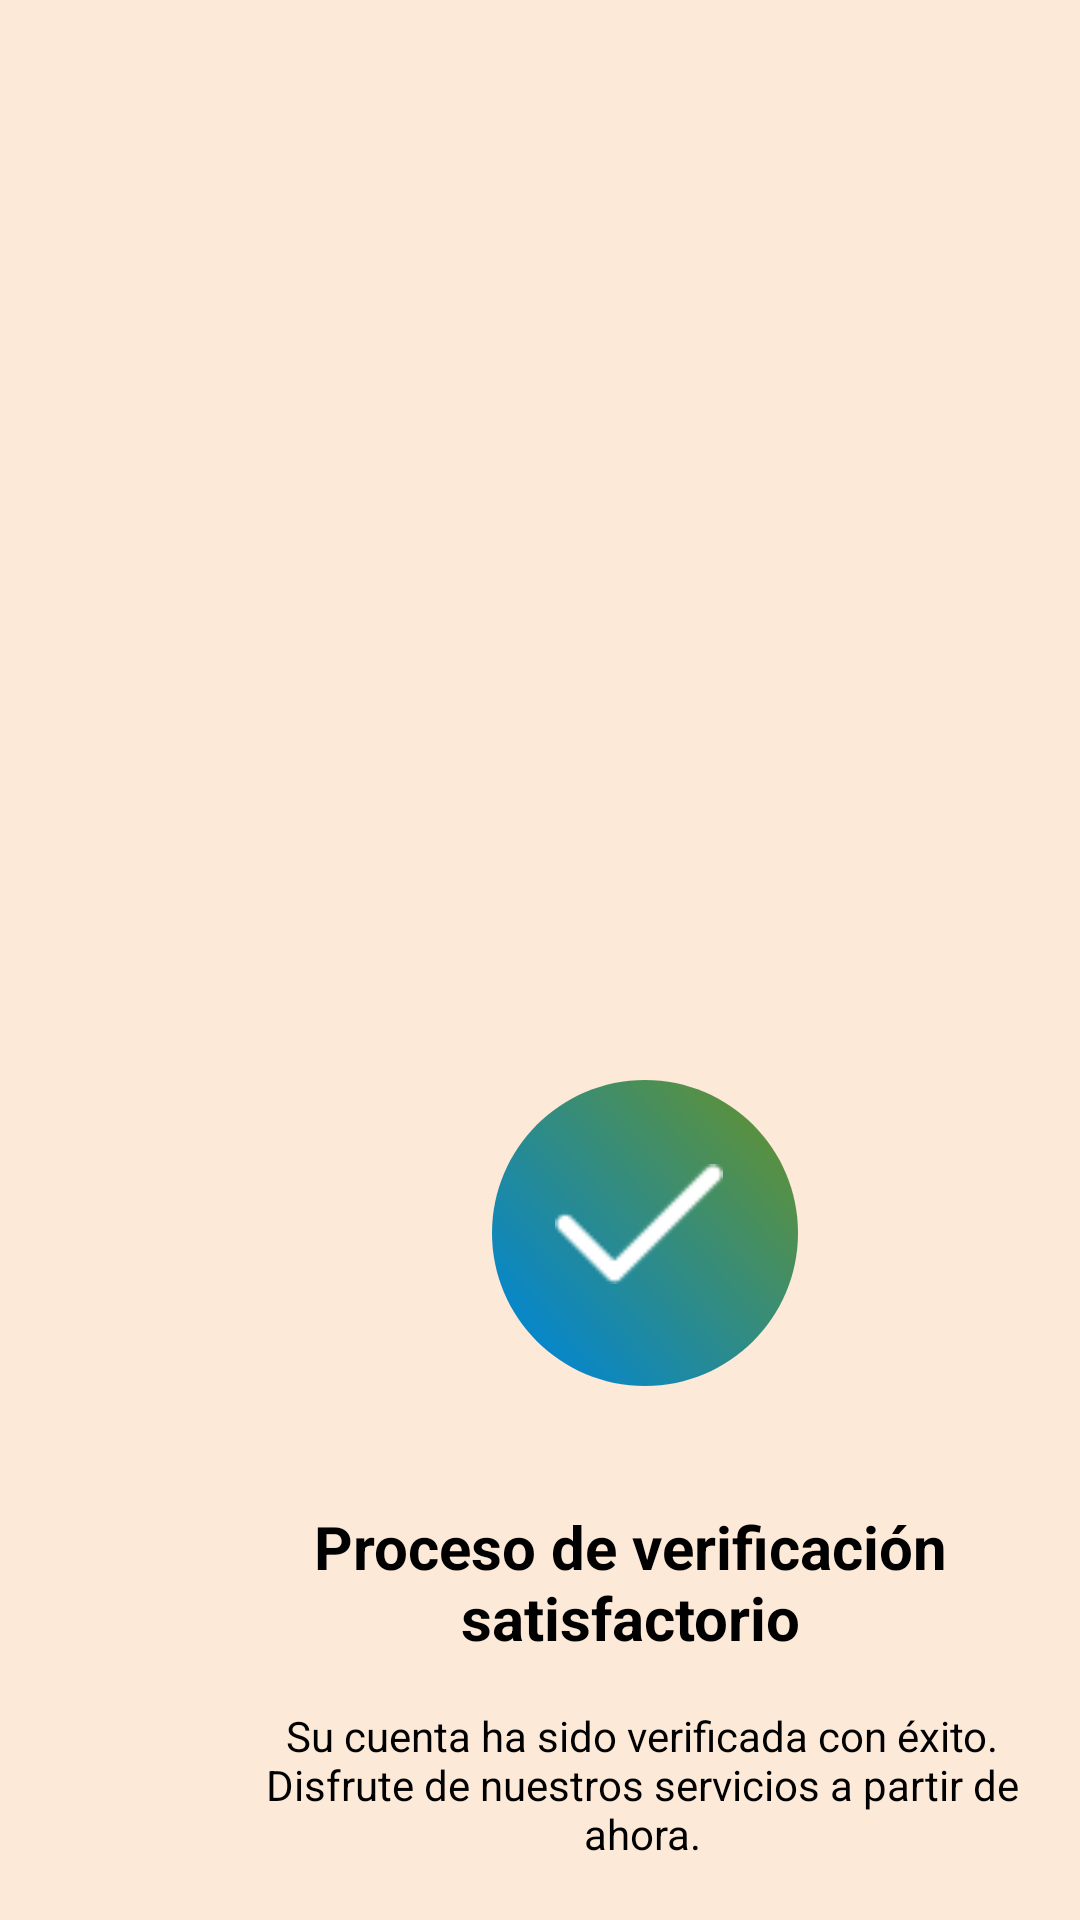

Icons on this 1080px x 1920px Android screen, each with the point to tap as [x,y]:
chulito: [639,1224]
